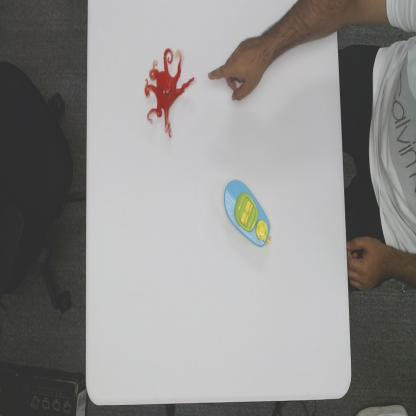Arm: (272, 0, 348, 70)
Boat: (222, 178, 273, 250)
Hand: (207, 30, 272, 103)
Octopus: (143, 46, 196, 140)
